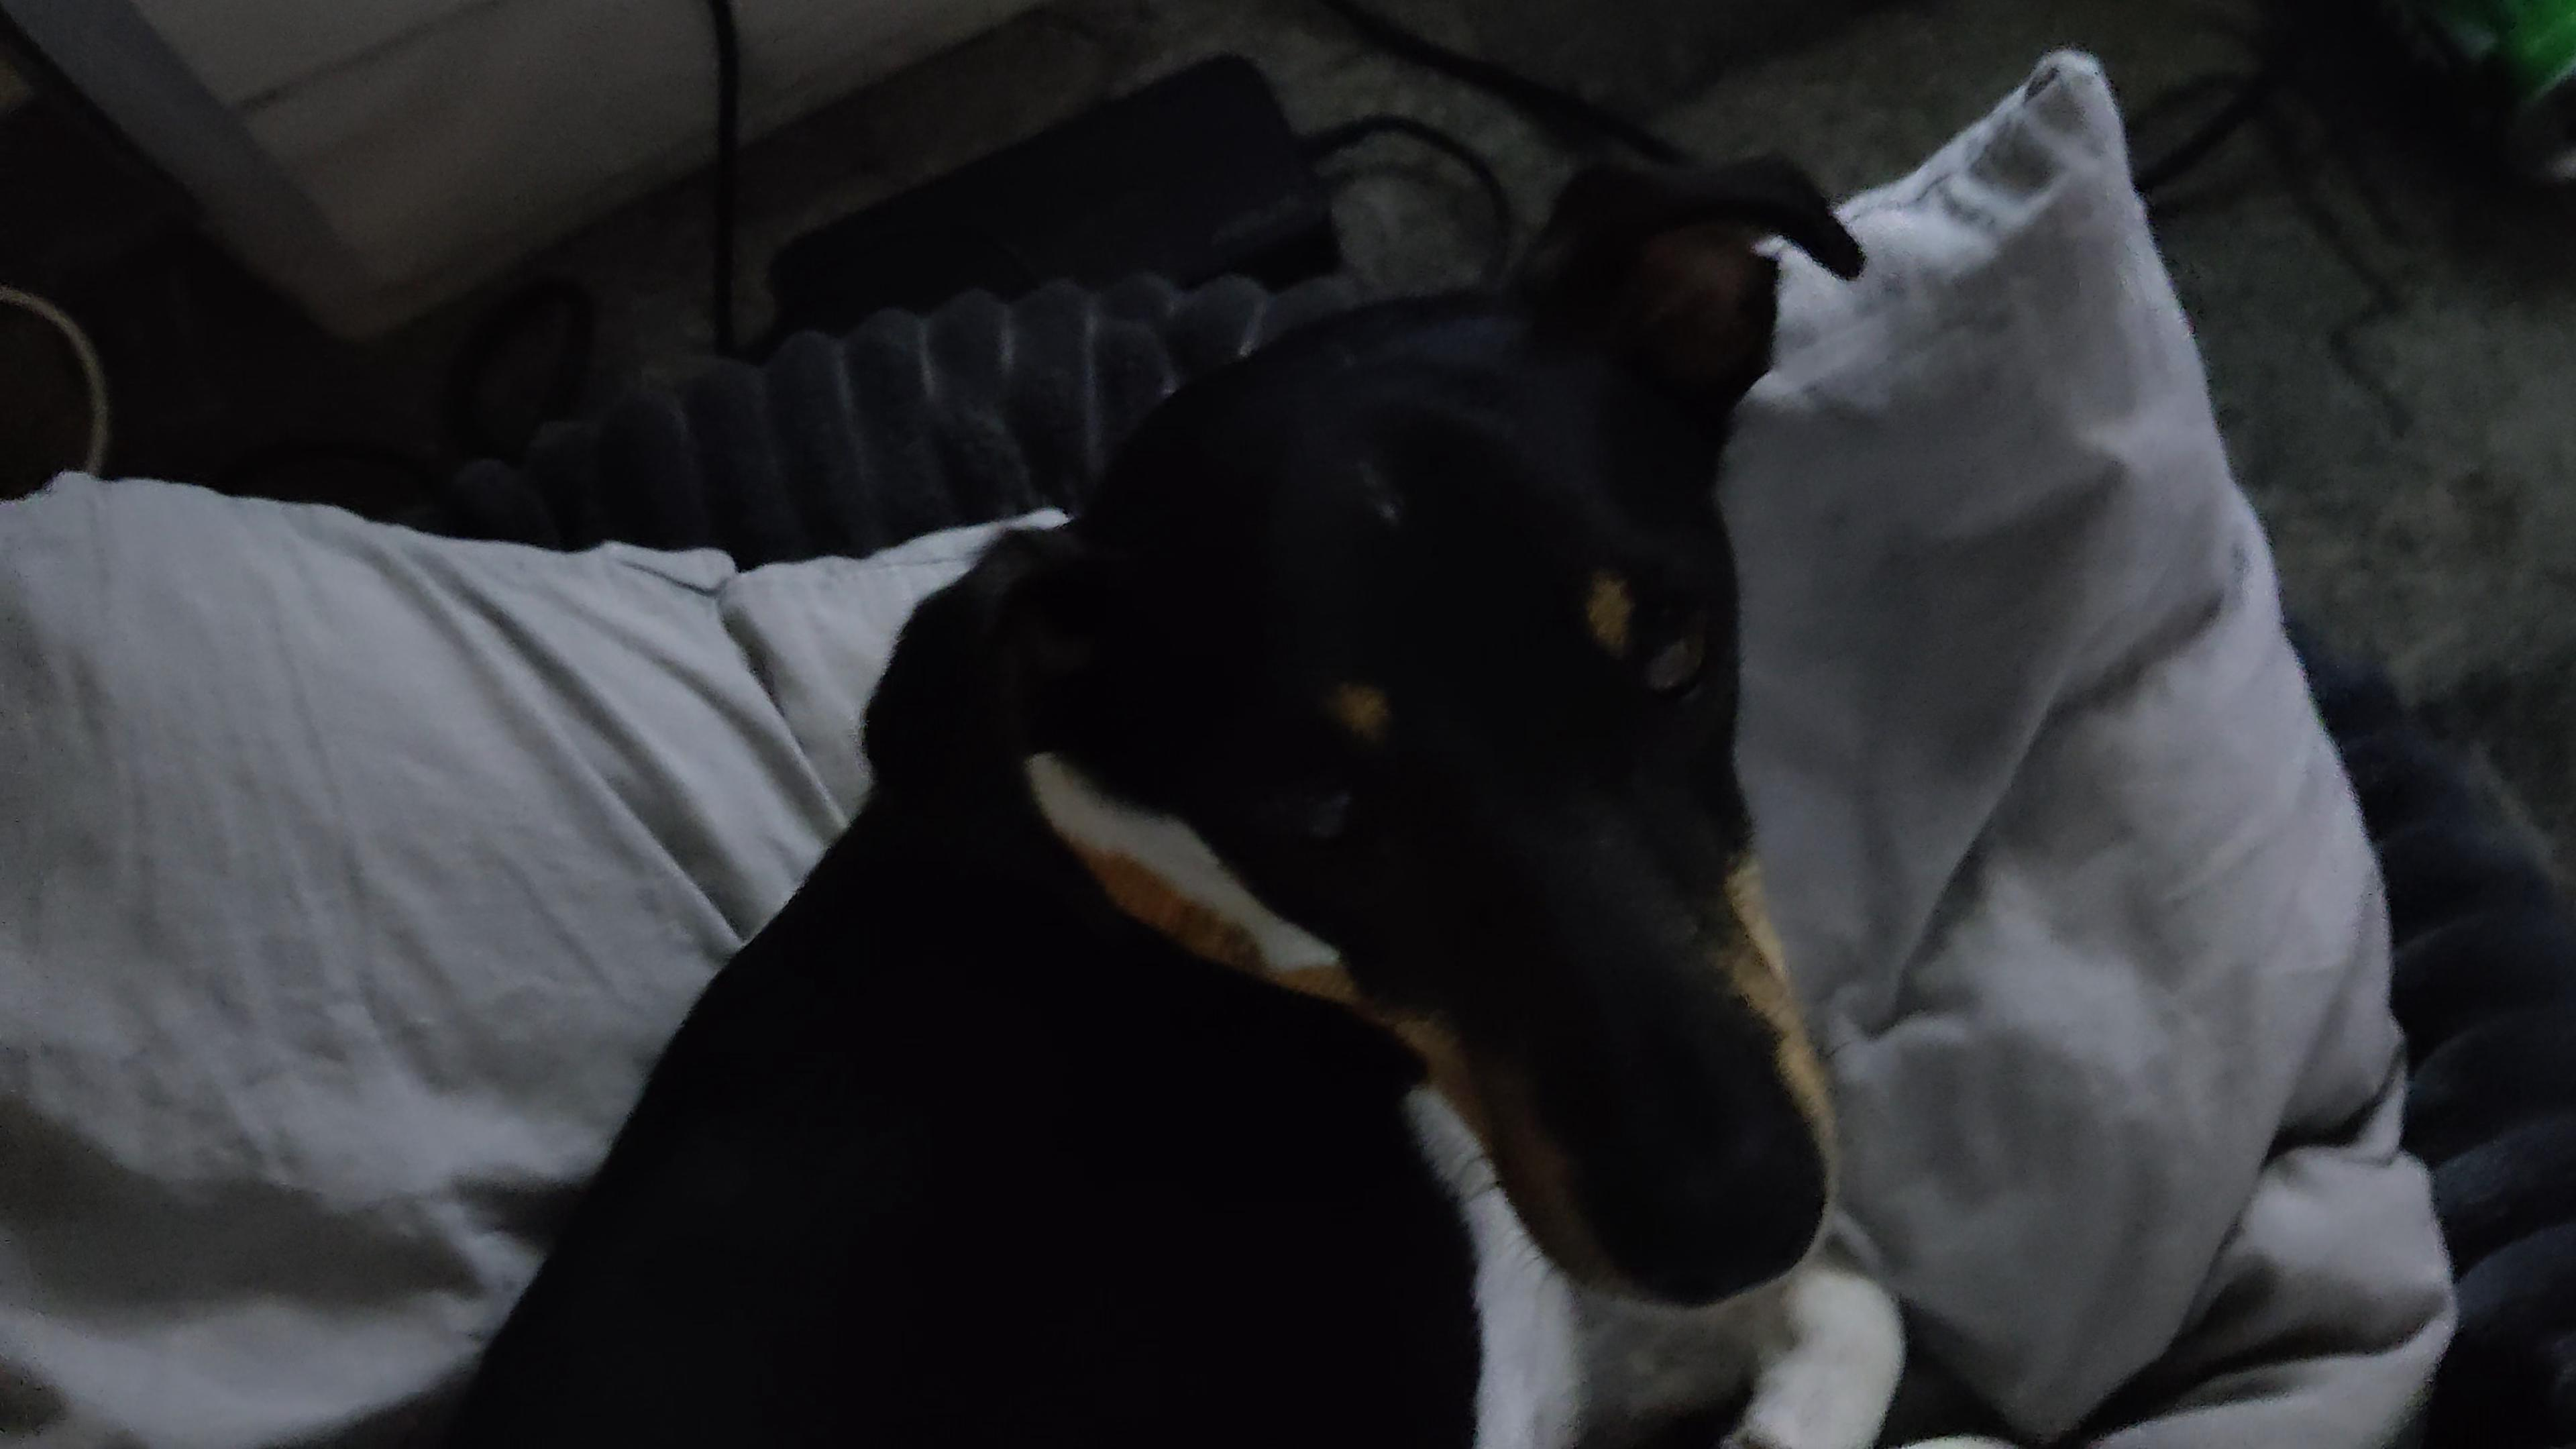Dog: (428, 124, 1918, 1449)
